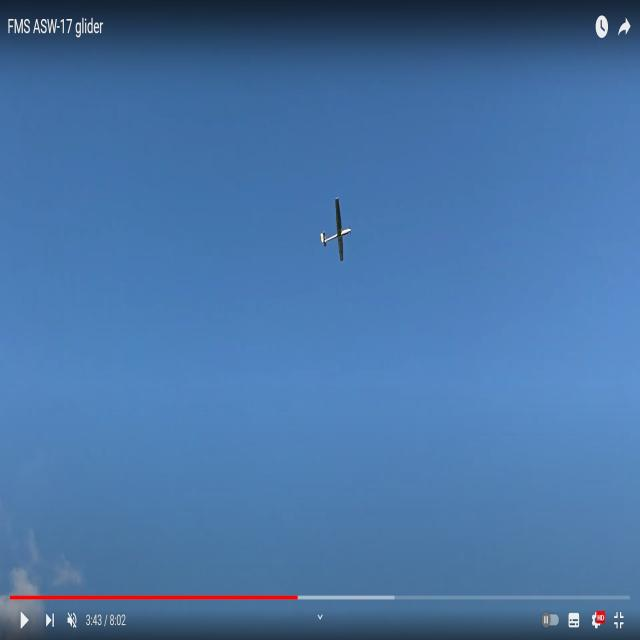iha: (321, 198, 353, 261)
